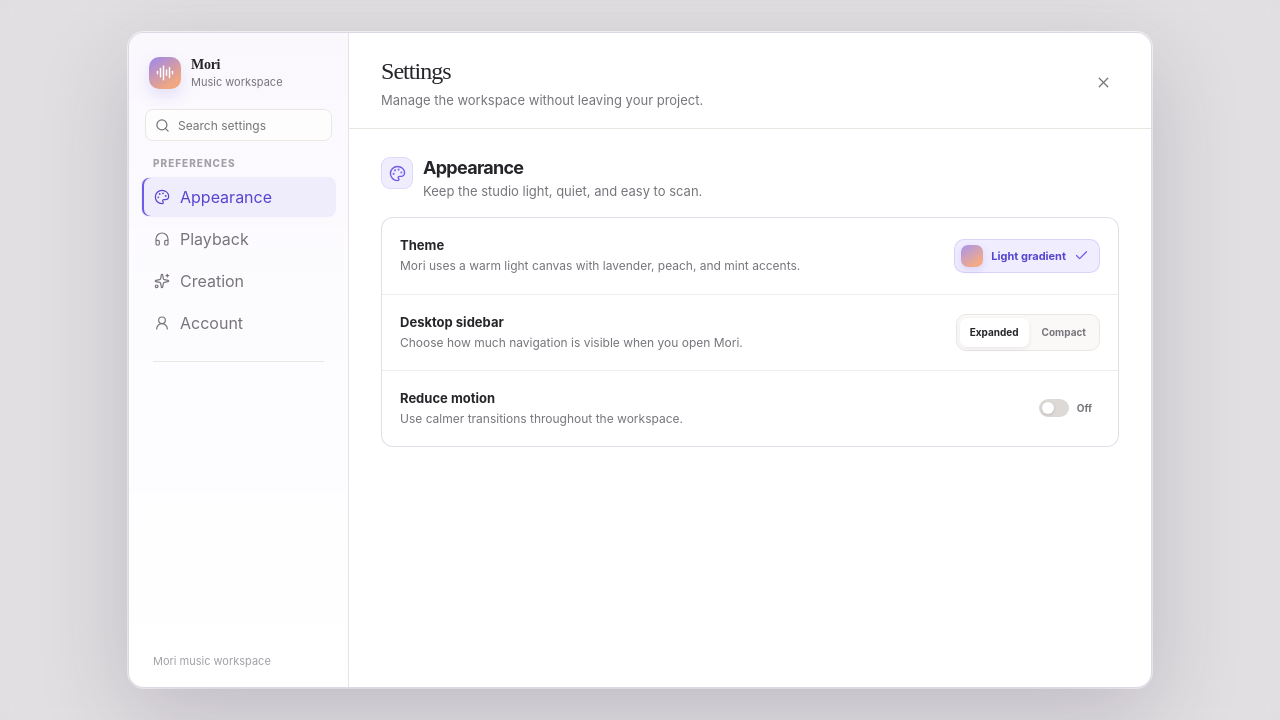
Mori settings › searches section descriptions and replaces stale content with an empty state
This screenshot has width=1280, height=720.
Type "player" into the field labelled "Search settings". click: (238, 125)
box: top-left (145, 109), bottom-right (332, 141)
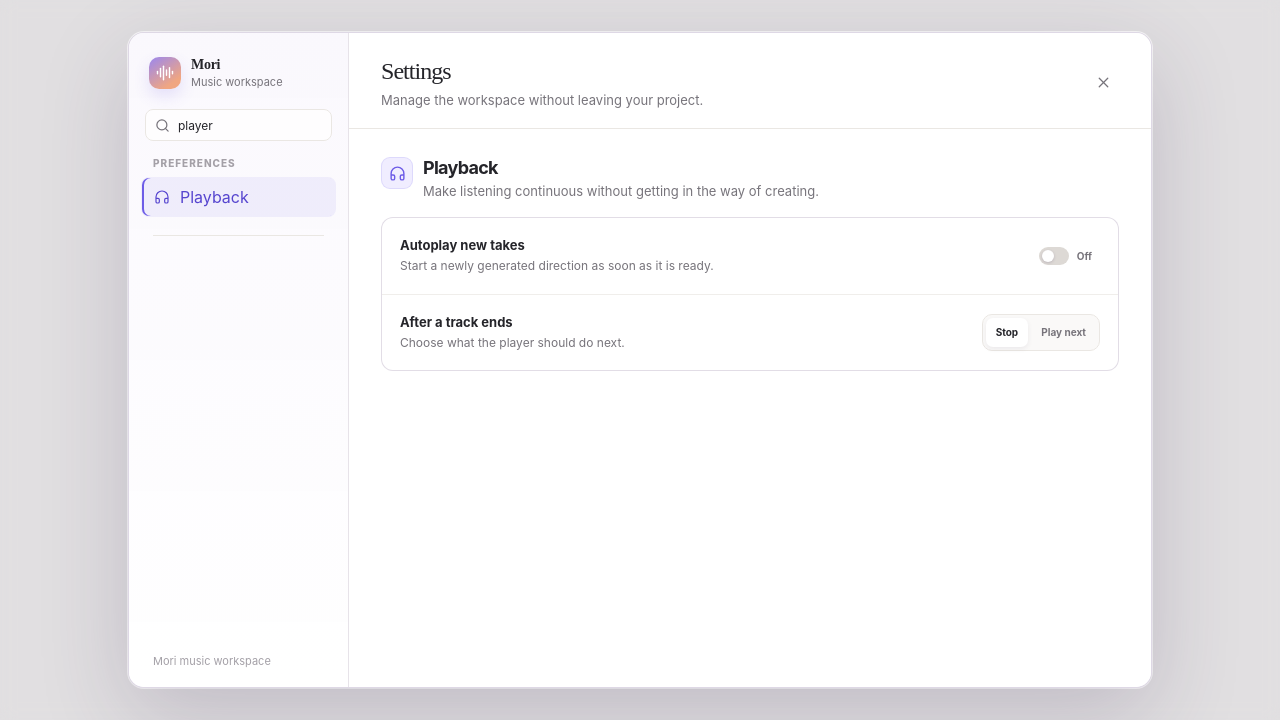
Now the heading "Playback" is shown, box top-left (423, 157), bottom-right (498, 178)
Replace the text in the field named "Search settings" with "billing". click: (238, 125)
box: top-left (145, 109), bottom-right (332, 141)
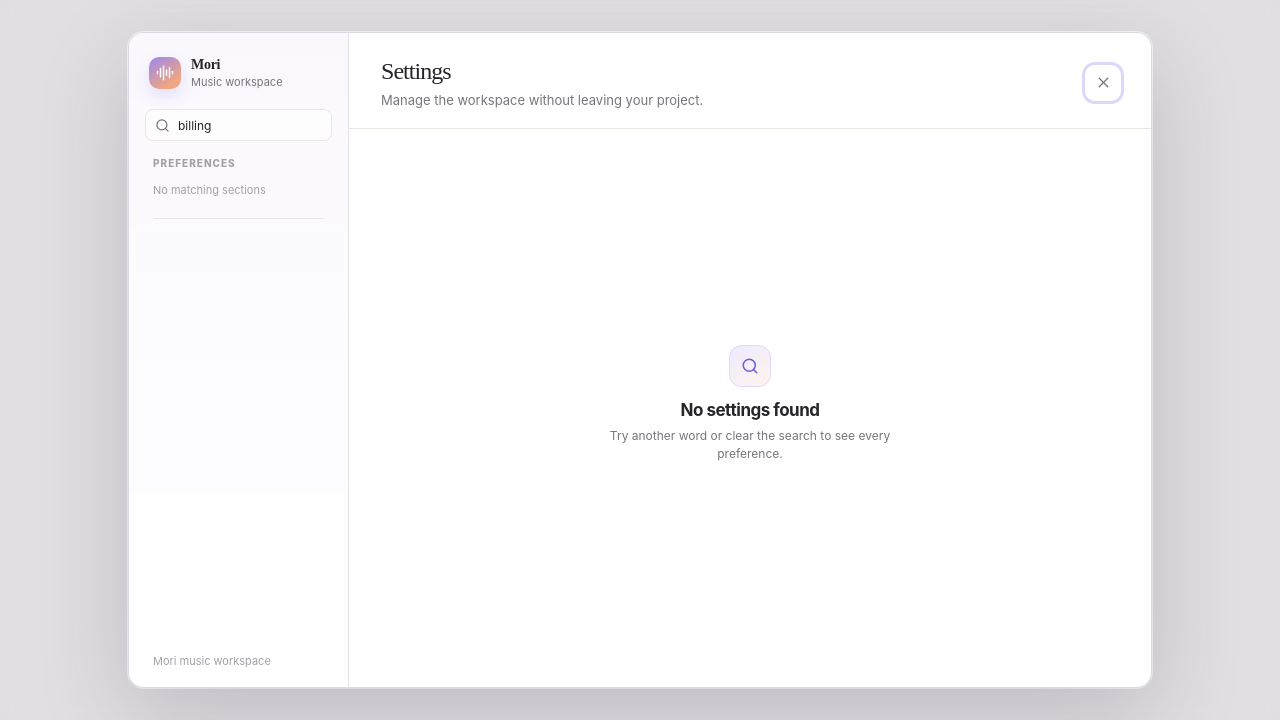
Now the heading "No settings found" is shown, box top-left (681, 400), bottom-right (819, 420)
Now the text "Try another word or clear the search to see every preference." is shown, box top-left (595, 427), bottom-right (905, 463)
